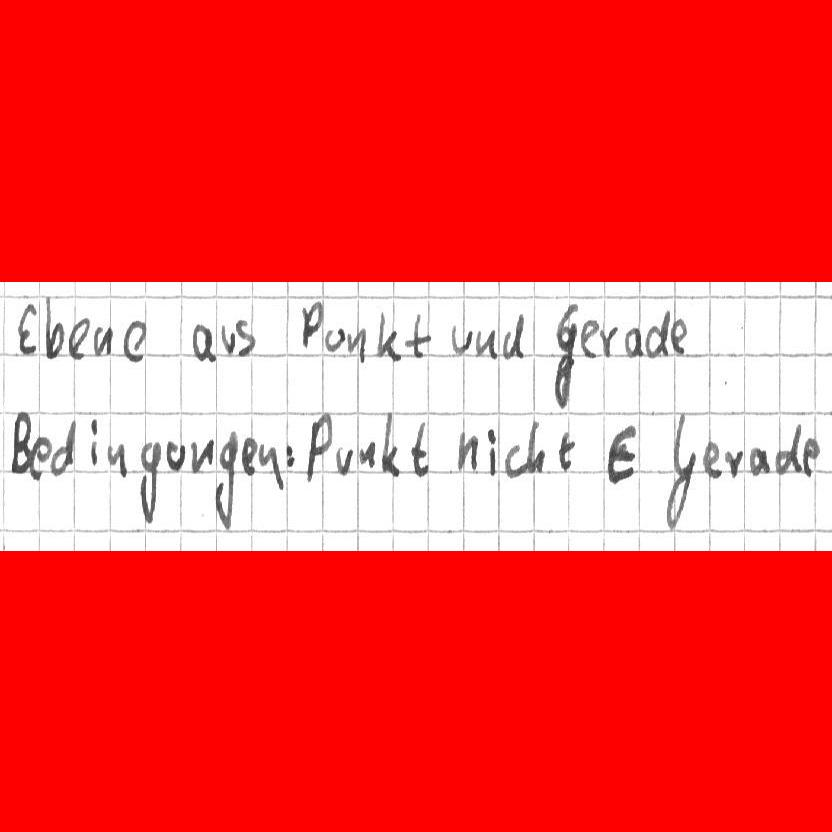Char: (664, 419, 695, 531), (213, 434, 238, 530), (553, 309, 576, 410), (604, 424, 638, 488), (302, 412, 332, 482), (136, 438, 159, 526), (50, 418, 80, 474), (7, 408, 31, 477), (775, 420, 803, 477), (374, 306, 402, 361), (407, 418, 430, 479), (43, 298, 64, 362), (16, 299, 38, 358), (500, 311, 525, 362), (380, 411, 399, 476), (258, 441, 282, 492), (298, 302, 322, 352), (645, 308, 669, 358), (121, 318, 146, 364), (527, 419, 547, 473), (409, 311, 431, 357), (192, 322, 215, 364), (67, 316, 88, 362), (556, 430, 577, 474), (234, 316, 256, 358), (456, 431, 478, 472), (30, 435, 49, 481), (800, 437, 821, 478), (106, 440, 128, 478), (503, 441, 525, 479), (190, 439, 213, 475), (702, 439, 722, 480), (669, 316, 688, 358), (217, 319, 238, 357), (346, 324, 366, 363), (579, 318, 598, 359), (747, 444, 770, 477), (476, 327, 498, 359), (165, 438, 185, 473), (240, 435, 257, 476), (484, 426, 497, 478), (93, 325, 114, 356), (360, 437, 378, 473), (335, 444, 354, 478), (451, 324, 472, 353), (602, 324, 620, 357), (625, 325, 643, 358), (323, 324, 342, 355), (725, 448, 743, 478), (88, 418, 99, 465), (282, 444, 296, 470)
